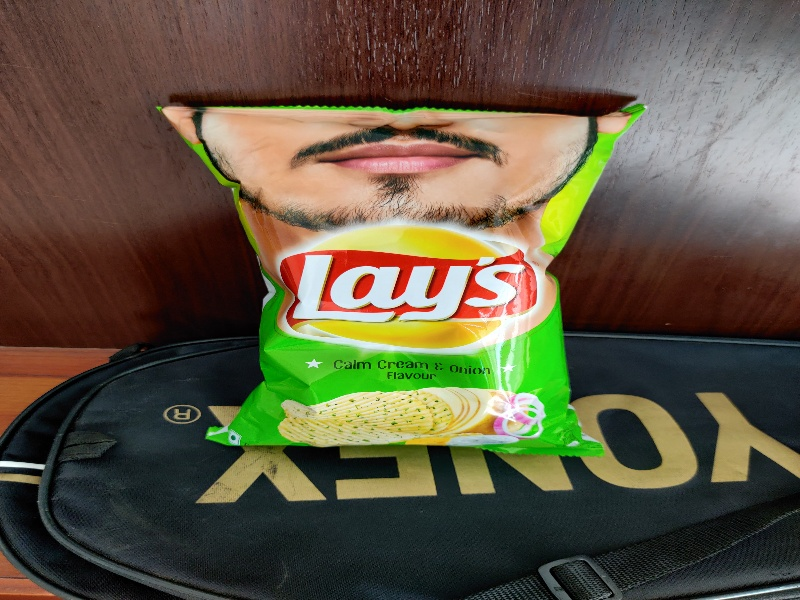lays: (150, 88, 636, 459)
